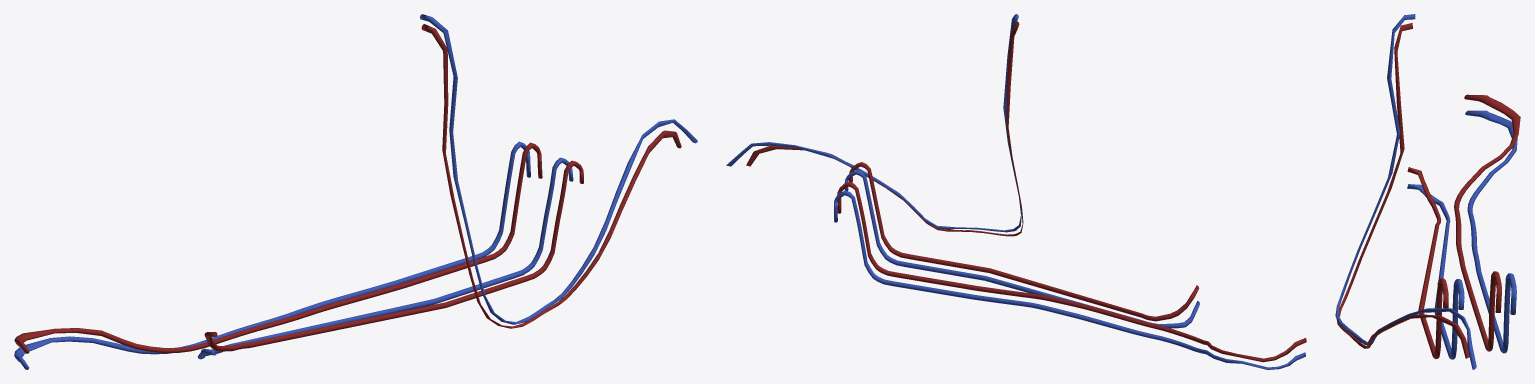
File: Wiring.fbx
3 renders of one model, left to right at view 1: azimuth 30°, elevation 25°; view 2: azimuth 150°, elevation 25°; view 3: azimuth 270°, elevation 25°, orthographic. The views are drawn at different scales.
Parts seen in each view (by area): view 1: Stopwatch2Red, Stopwatch2Blue, Stopwatch1Red, MilikansBlue, MilikansRed, Stopwatch1Blue; view 2: Stopwatch2Red, Stopwatch2Blue, Stopwatch1Red, Stopwatch1Blue, MilikansBlue, MilikansRed; view 3: Stopwatch2Red, Stopwatch2Blue, MilikansBlue, MilikansRed, Stopwatch1Red, Stopwatch1Blue.
Boxes of the visible parts, x1,y1,x2,y2 form: Stopwatch2Red: (14, 142, 542, 353); Stopwatch2Blue: (14, 141, 530, 369); Stopwatch1Red: (204, 160, 583, 351); MilikansBlue: (420, 14, 697, 324); MilikansRed: (421, 24, 681, 328); Stopwatch1Blue: (198, 157, 573, 359); Stopwatch2Red: (837, 181, 1306, 362); Stopwatch2Blue: (834, 190, 1305, 369); Stopwatch1Red: (849, 162, 1199, 321); Stopwatch1Blue: (844, 170, 1199, 328); MilikansBlue: (726, 14, 1021, 232); MilikansRed: (746, 21, 1023, 236); Stopwatch2Red: (1454, 94, 1520, 351); Stopwatch2Blue: (1465, 110, 1517, 353); MilikansBlue: (1335, 14, 1476, 369); MilikansRed: (1336, 23, 1469, 358); Stopwatch1Red: (1407, 167, 1448, 359); Stopwatch1Blue: (1407, 184, 1464, 359).
Size of the model in its own units: 811 by 352 by 202.
